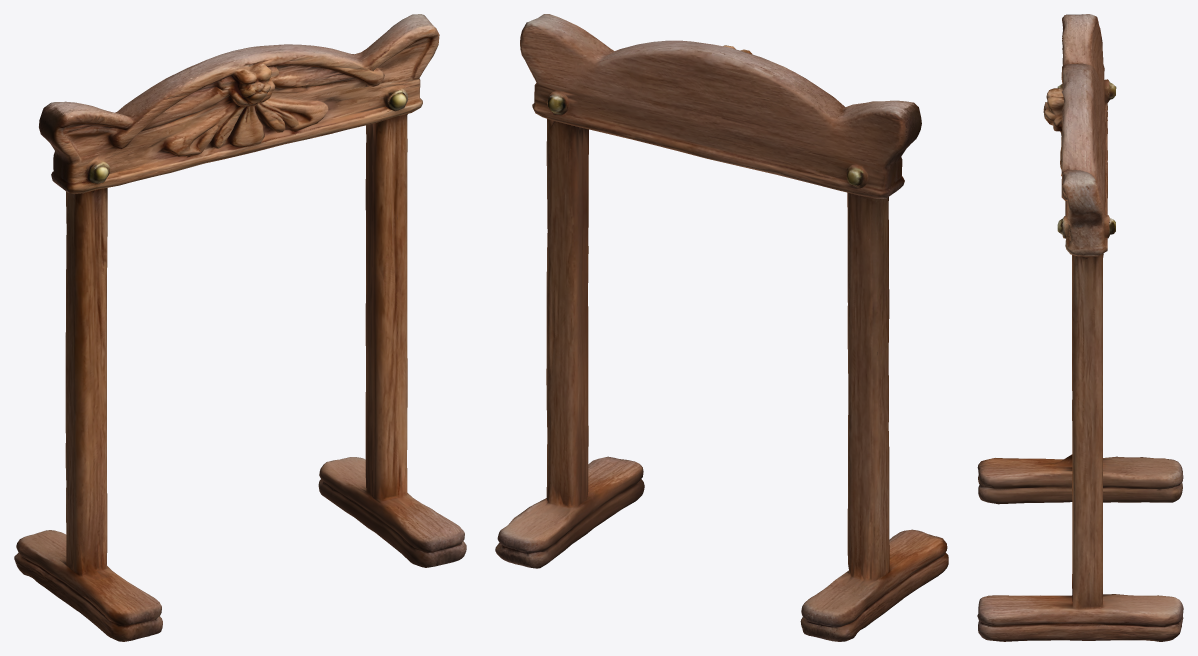
The model's file is door_frame.glb.
3 views of the same model, side by side, from view 1: azimuth 30°, elevation 25°; view 2: azimuth 150°, elevation 25°; view 3: azimuth 270°, elevation 25° (orthographic). The views are drawn at different scales.
Visible parts, largest first — view 1: tripo_node_d5fc0dba-8326-4e92-bb14-a001a46e253d; view 2: tripo_node_d5fc0dba-8326-4e92-bb14-a001a46e253d; view 3: tripo_node_d5fc0dba-8326-4e92-bb14-a001a46e253d.
Boxes of the visible parts, x1,y1,x2,y2 form: tripo_node_d5fc0dba-8326-4e92-bb14-a001a46e253d: (14,14,466,641); tripo_node_d5fc0dba-8326-4e92-bb14-a001a46e253d: (495,14,948,641); tripo_node_d5fc0dba-8326-4e92-bb14-a001a46e253d: (977,14,1183,641).
Size of the model in its own units: 0.5535 by 0.7 by 0.2748.
1 material, 1 textured.
